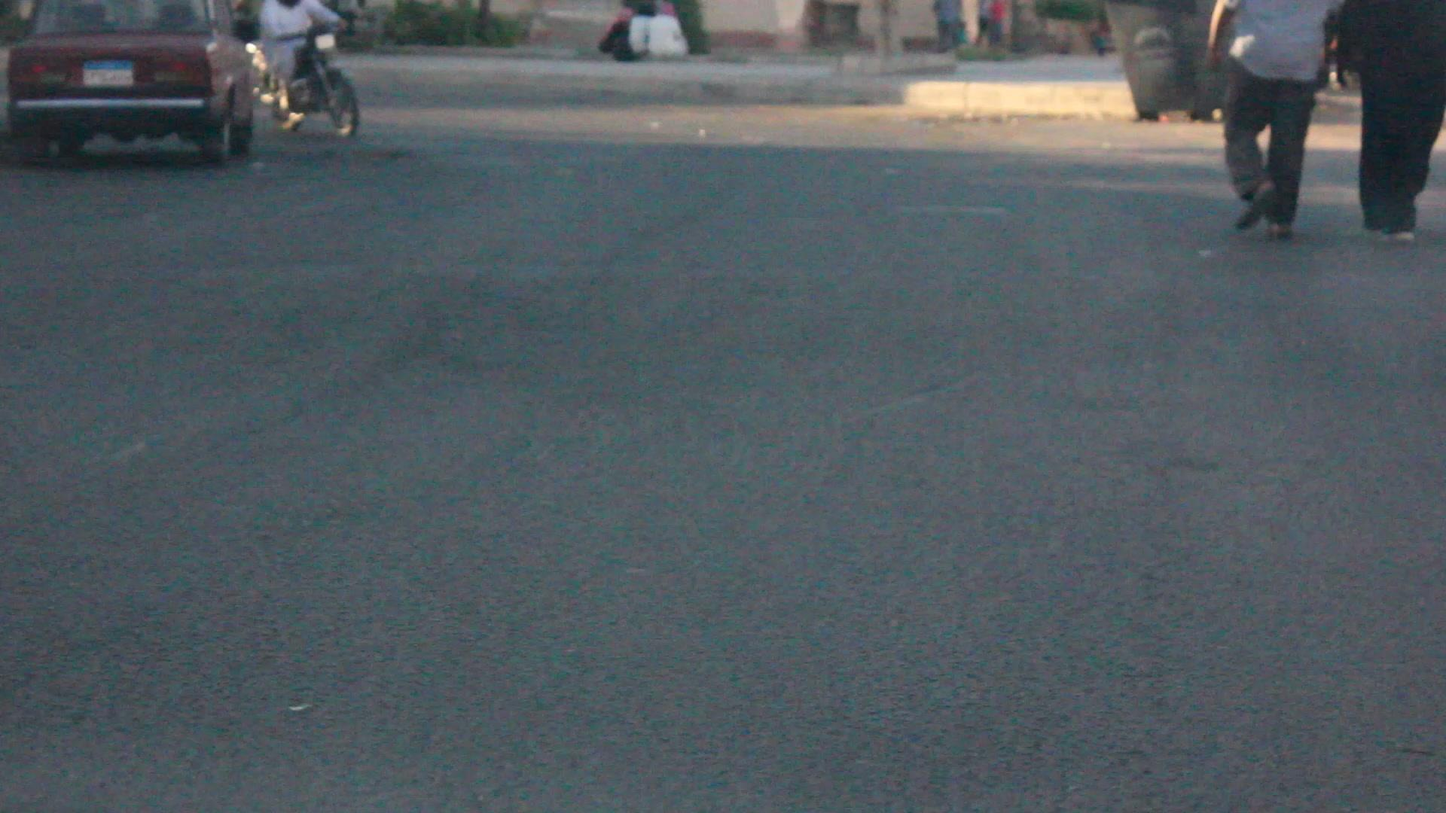Bump: (0, 247, 1446, 393)
